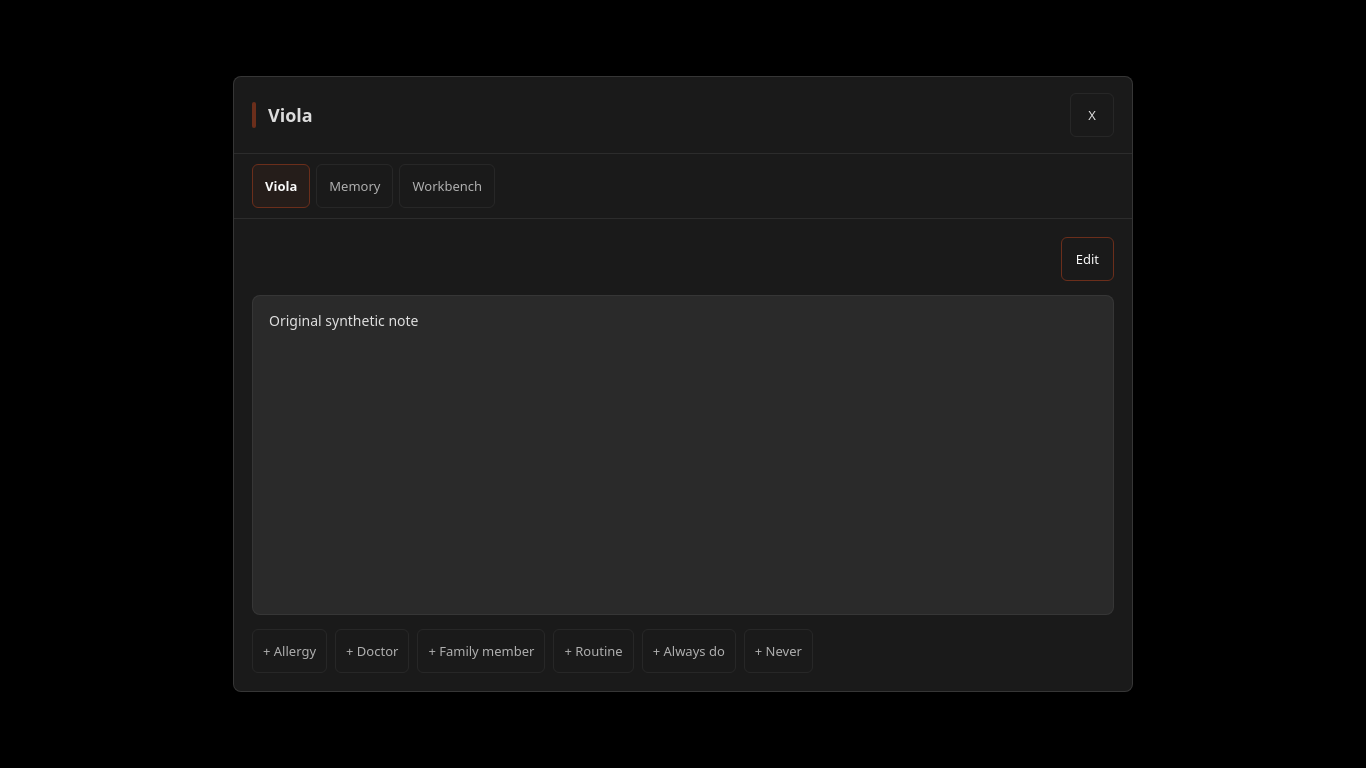
Test: MemoryPanel desktop draft ownership through authFetch › retains an unchanged accepted save and its request body
Click the button "Edit".
click(1087, 259)  # box [1061,237,1114,281]
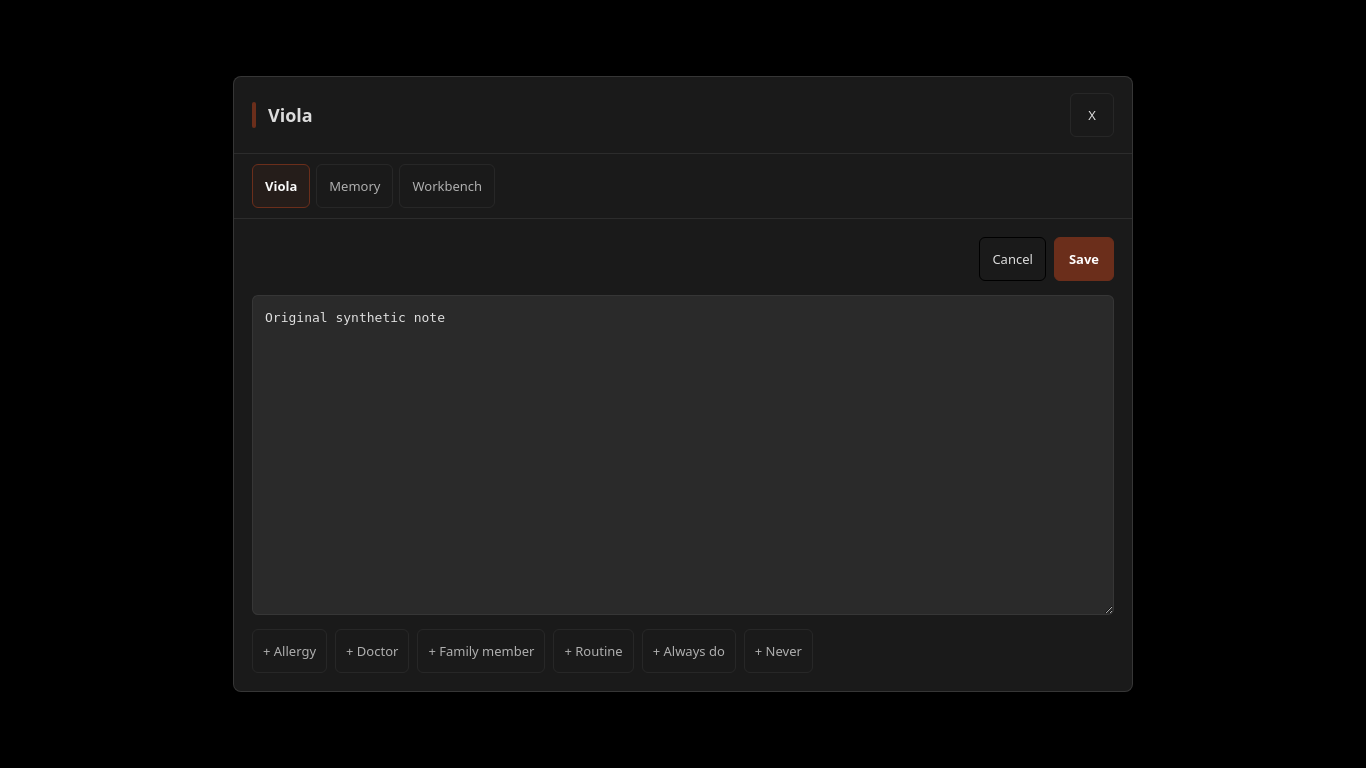
Replace the text in the text box named "Edit VIOLA.md" with "Accepted synthetic note" at (683, 455), box [252,295,1114,615]
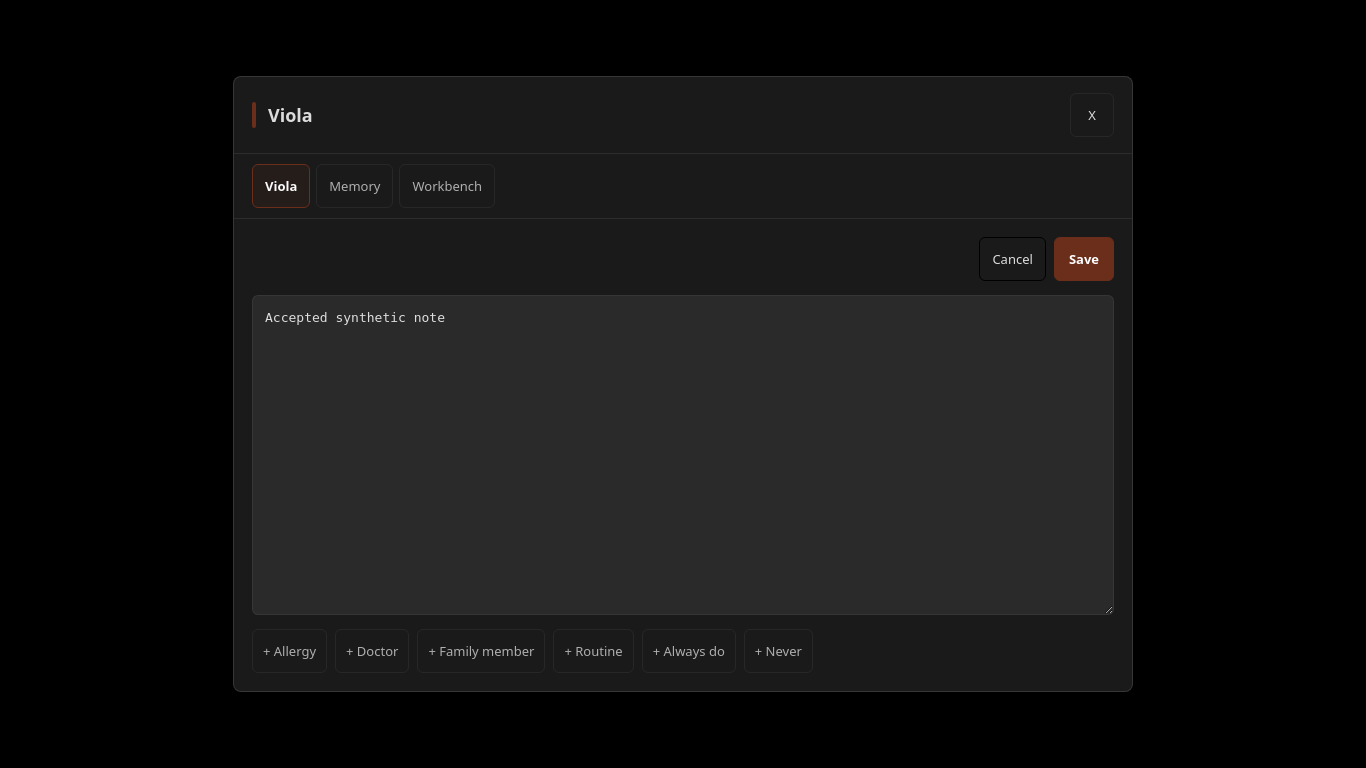
Click the button "Save".
click(1084, 259)  # box [1054,237,1114,281]
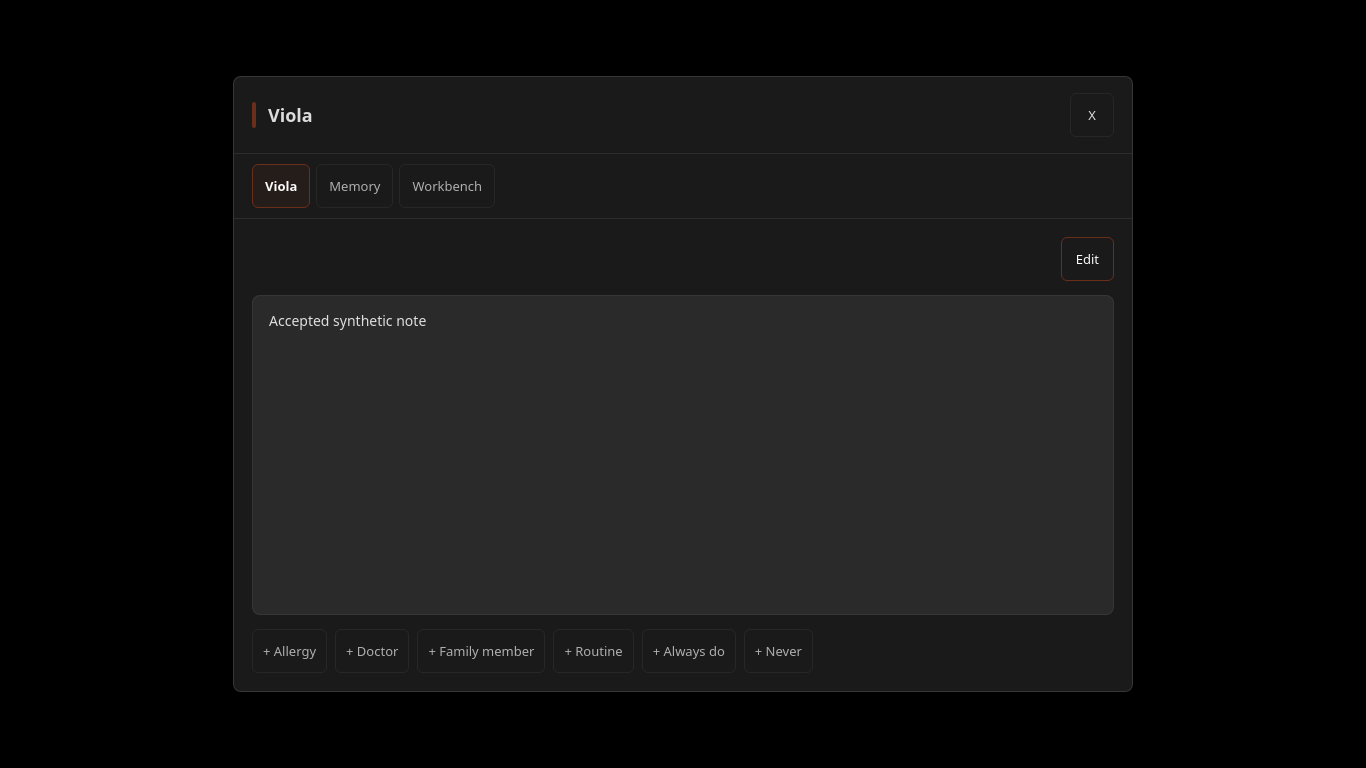
expect the element with test id "viola-md-rendered" reads "Accepted synthetic note": met, box [269,311,426,330]
expect the text "Accepted synthetic note" is shown: met, box [269,311,426,330]
